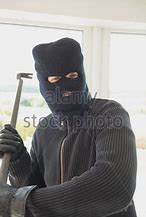crowbar: (1, 70, 34, 185)
